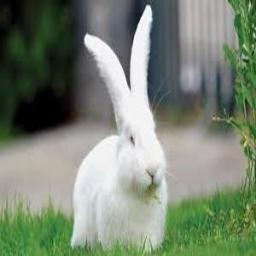rabbit: (73, 4, 167, 251)
